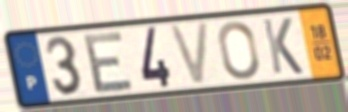3: (44, 34, 87, 99)
4: (138, 25, 173, 91)
E: (82, 28, 137, 96)
K: (260, 16, 306, 77)
O: (216, 19, 262, 82)
V: (166, 19, 212, 88)
